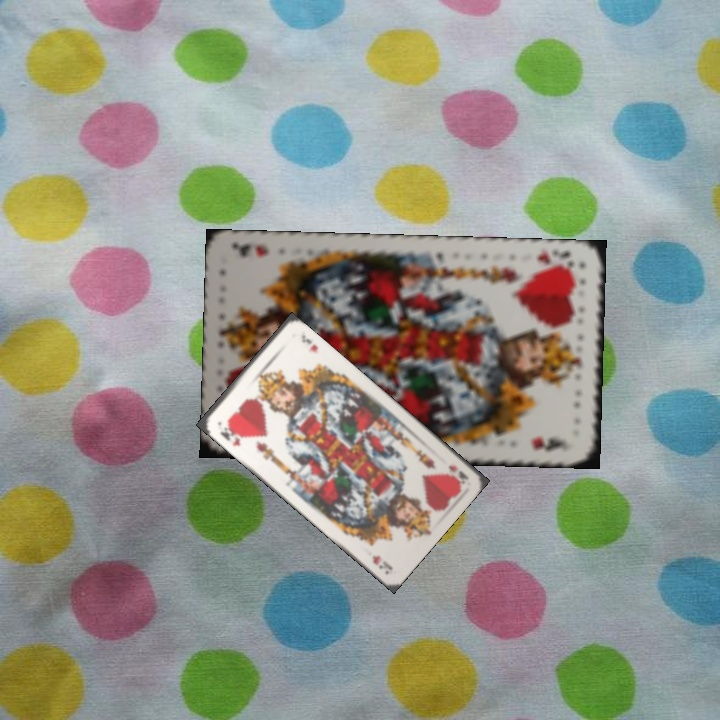HK: (532, 246, 577, 273), (216, 421, 245, 449), (444, 461, 471, 482)
